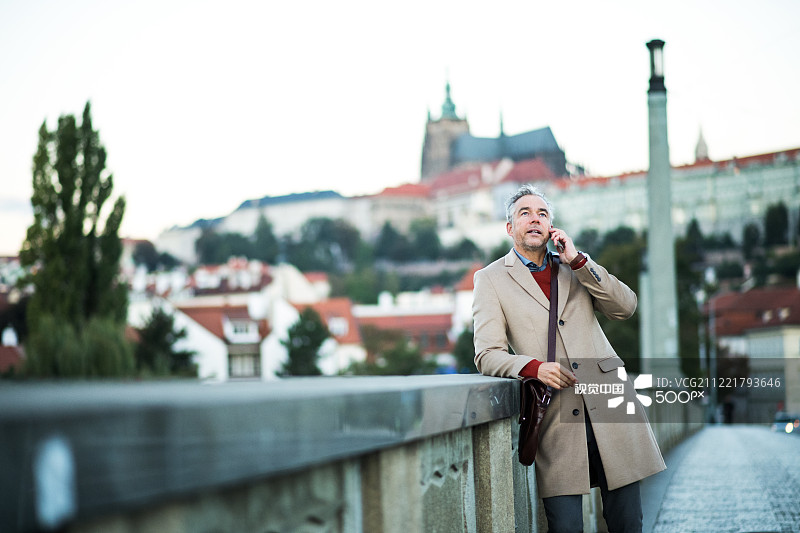calling: (537, 219, 595, 267)
no-phone: (522, 354, 585, 397)
